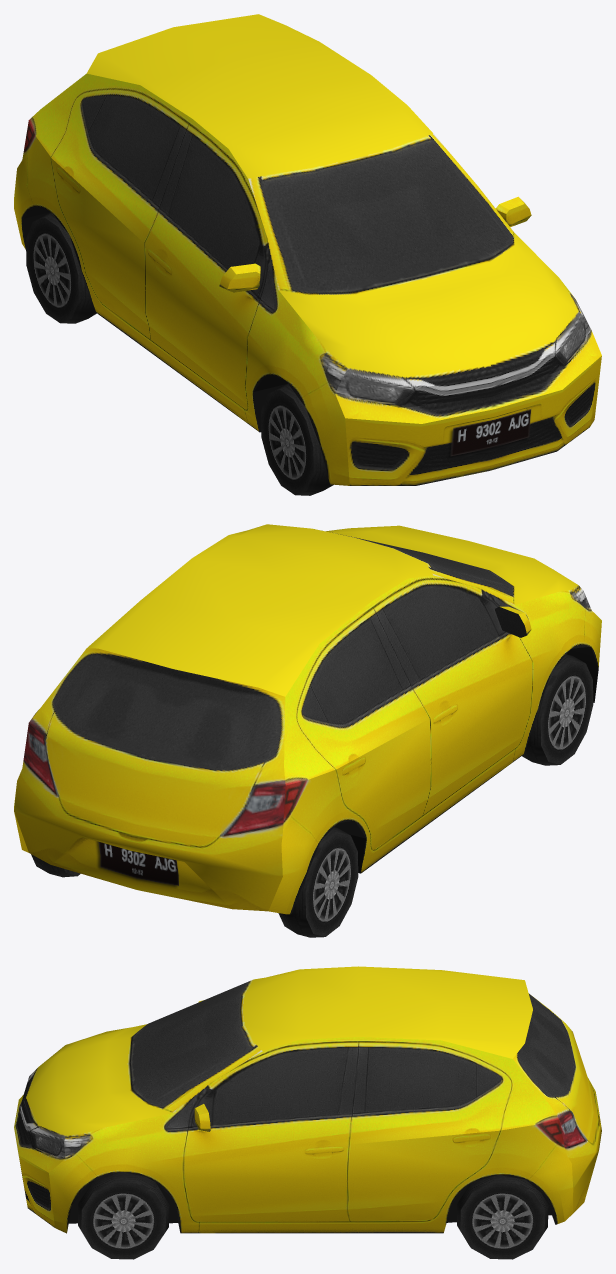
File: 2020_small_city_hatchback_psx_style_-_han66st.glb
The picture shows the model from 3 angles, top to bottom: view 1: azimuth 30°, elevation 25°; view 2: azimuth 150°, elevation 25°; view 3: azimuth 270°, elevation 25°; orthographic projection. The views are drawn at different scales.
Visible parts, largest first — view 1: bodyhatchback1, wheel, wheel.001; view 2: bodyhatchback1, wheel, wheel.001; view 3: bodyhatchback1, wheel.002, wheel.003.
Boxes of the visible parts, left/top/right/bottom form: bodyhatchback1: left=14, top=14, right=601, bottom=485; wheel: left=261, top=384, right=333, bottom=495; wheel.001: left=26, top=213, right=96, bottom=323; bodyhatchback1: left=14, top=524, right=601, bottom=914; wheel: left=522, top=654, right=593, bottom=765; wheel.001: left=278, top=827, right=358, bottom=937; bodyhatchback1: left=14, top=966, right=601, bottom=1233; wheel.002: left=78, top=1172, right=169, bottom=1259; wheel.003: left=457, top=1175, right=548, bottom=1259.
Size of the model in its own units: 1.86 by 1.5 by 3.81.
Materials: 1 (1 with a texture image).
